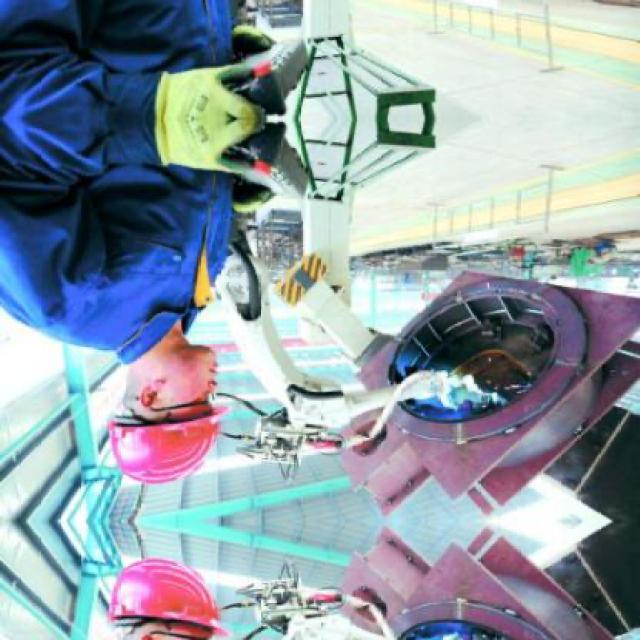con casco: (68, 328, 275, 498)
